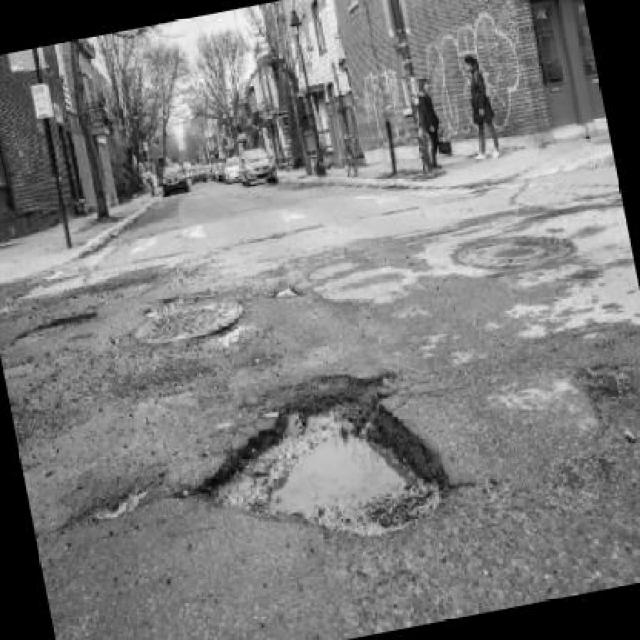pothole: (185, 351, 462, 572), (6, 304, 105, 354), (572, 351, 640, 418), (86, 479, 154, 527), (268, 278, 306, 305)
